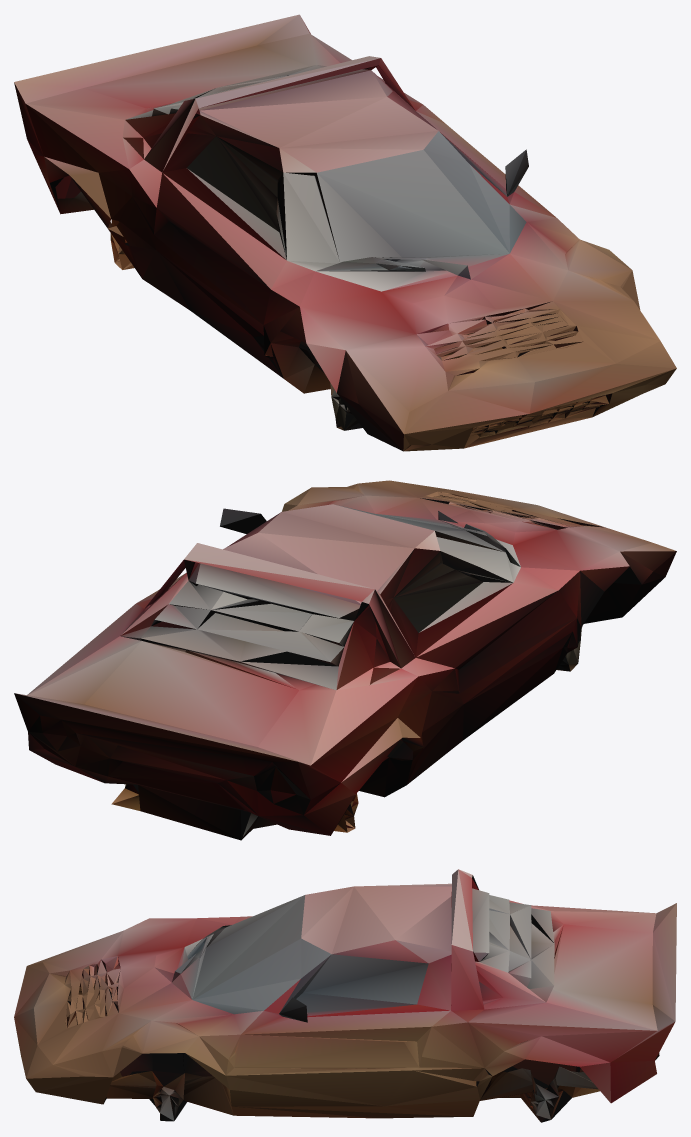
Rendered from lancia_stratos.glb.
3 views of the same model, one above another, from view 1: azimuth 30°, elevation 25°; view 2: azimuth 150°, elevation 25°; view 3: azimuth 270°, elevation 25° (orthographic). The views are drawn at different scales.
Visible parts, largest first — view 1: Wreck_lancia_stratos; view 2: Wreck_lancia_stratos; view 3: Wreck_lancia_stratos.
Part boxes in pixels (x1,y1,x2,y2): Wreck_lancia_stratos: (14, 14, 676, 451); Wreck_lancia_stratos: (14, 480, 676, 840); Wreck_lancia_stratos: (14, 869, 676, 1122).
Size of the model in its own units: 1.81 by 1.07 by 3.71.
